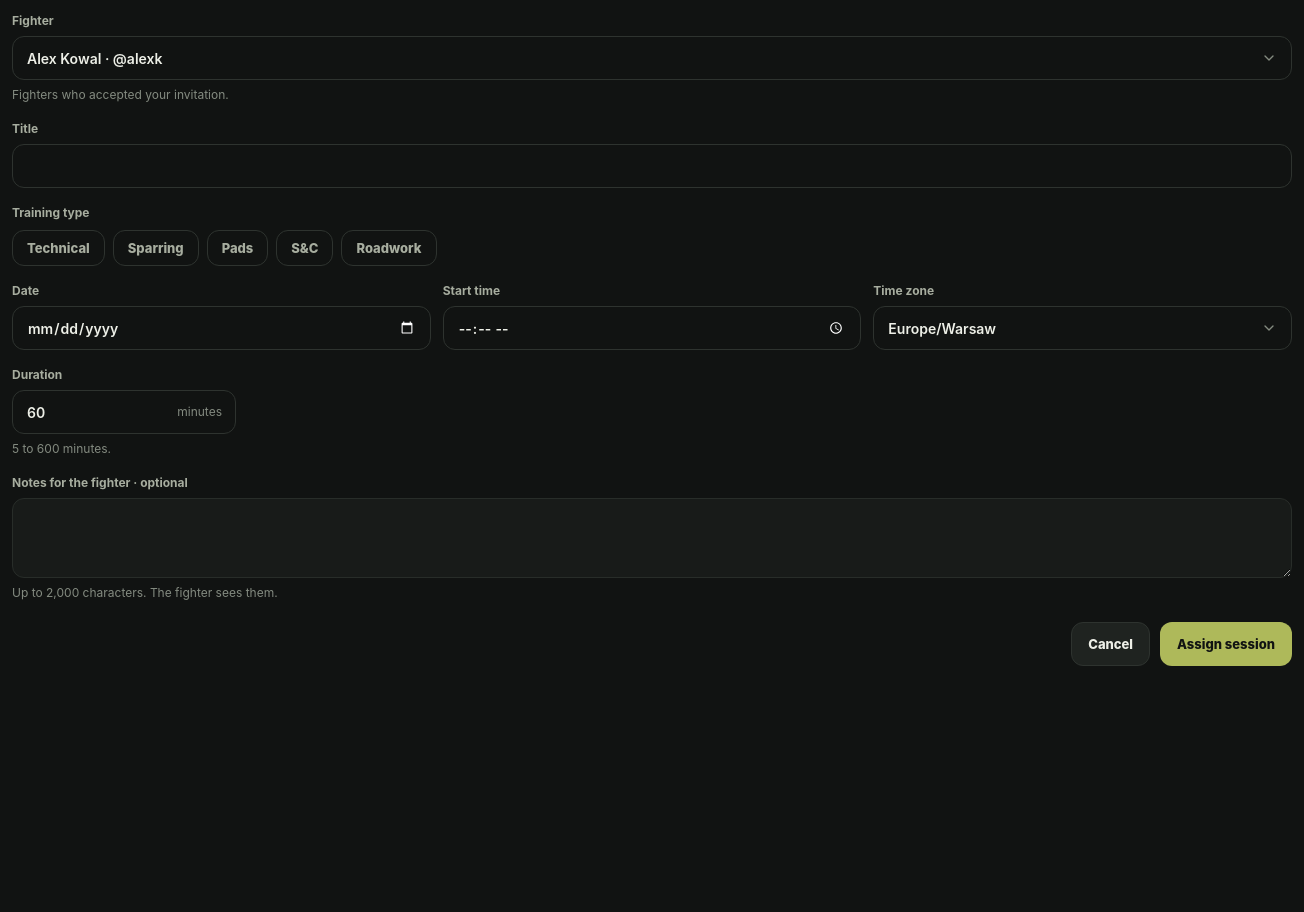
CreateTrainingSessionForm › says the fighter can no longer be planned for when the backend answers 404
In the field labelled "Title": (652,166) [12,144,1292,188], type "  Technical boxing "
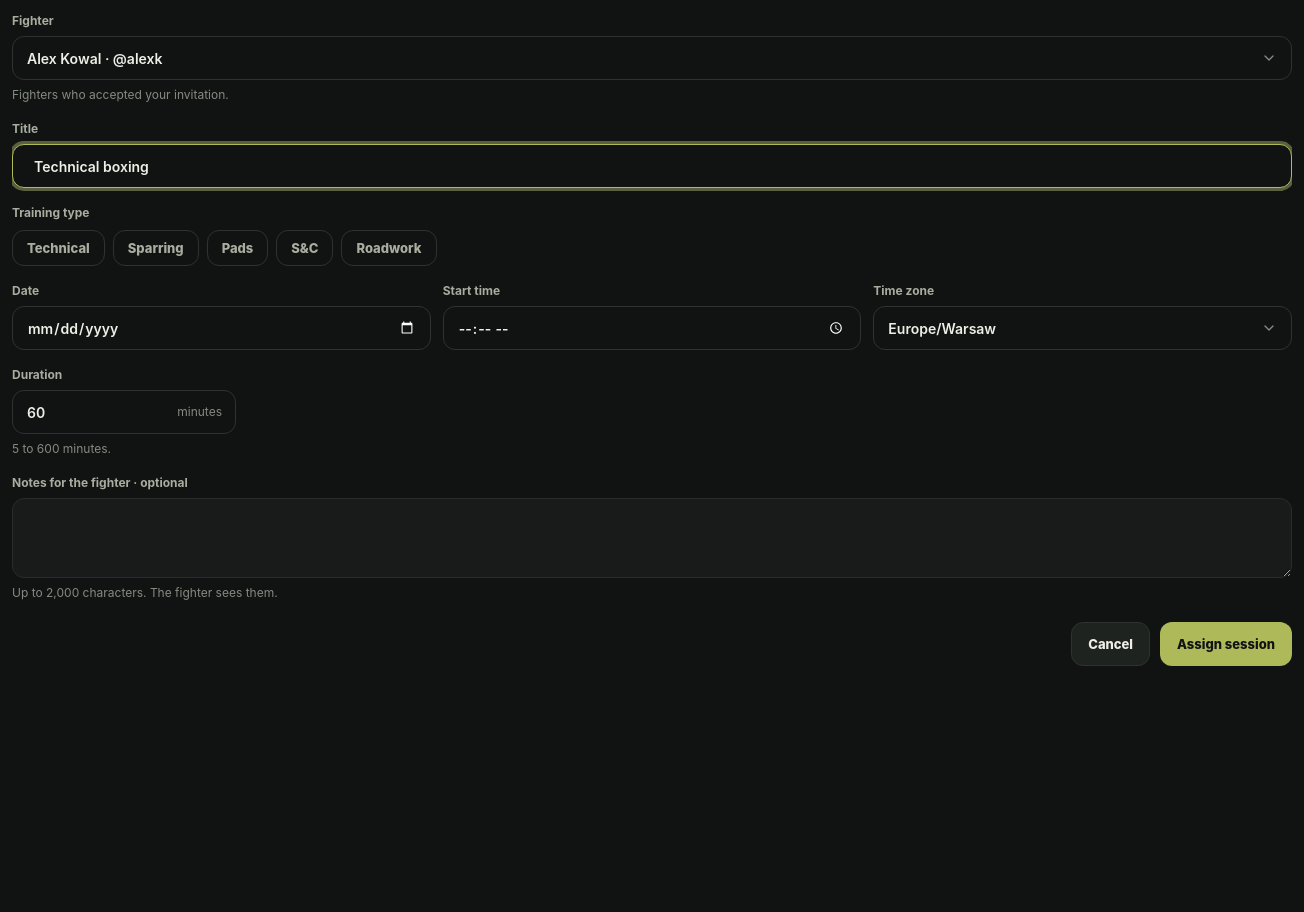
Click the radio button labelled "Technical": (58,248) [12,230,105,266]
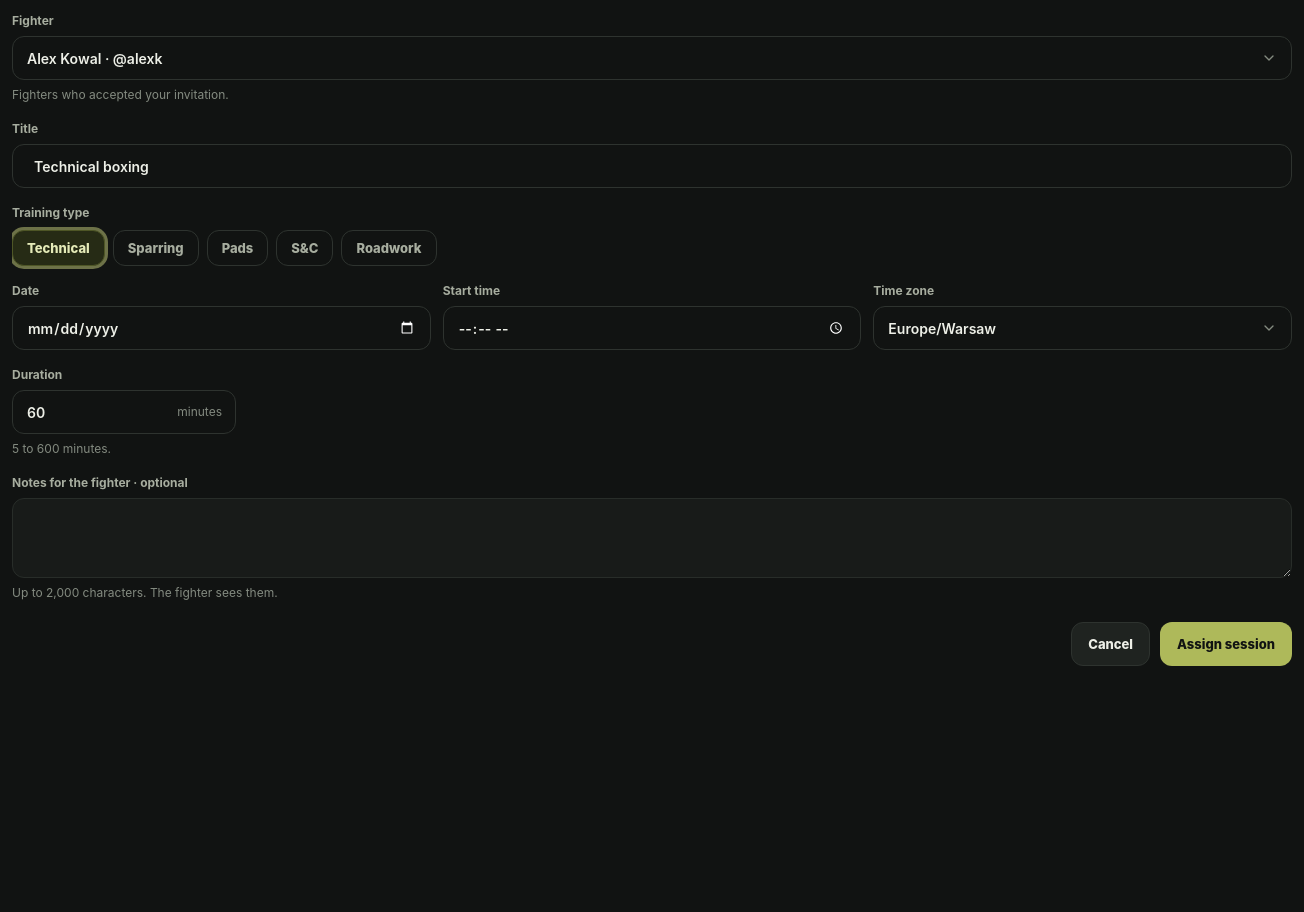
In the date field labelled "Date": (221,328) [12,306,431,350], type "2026-10-21"
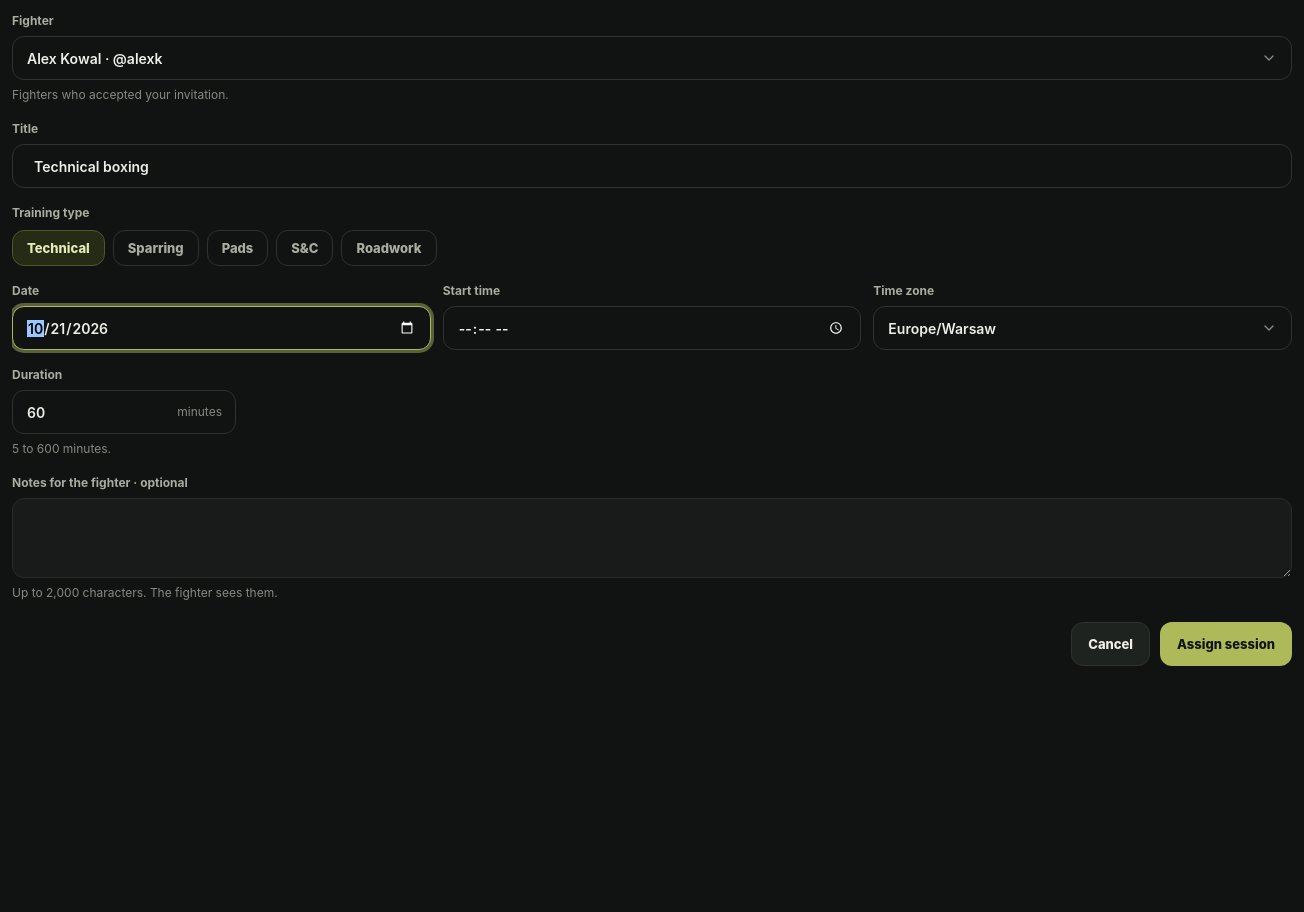
In the time field labelled "Start time": (652,328) [443,306,861,350], type "18:00"
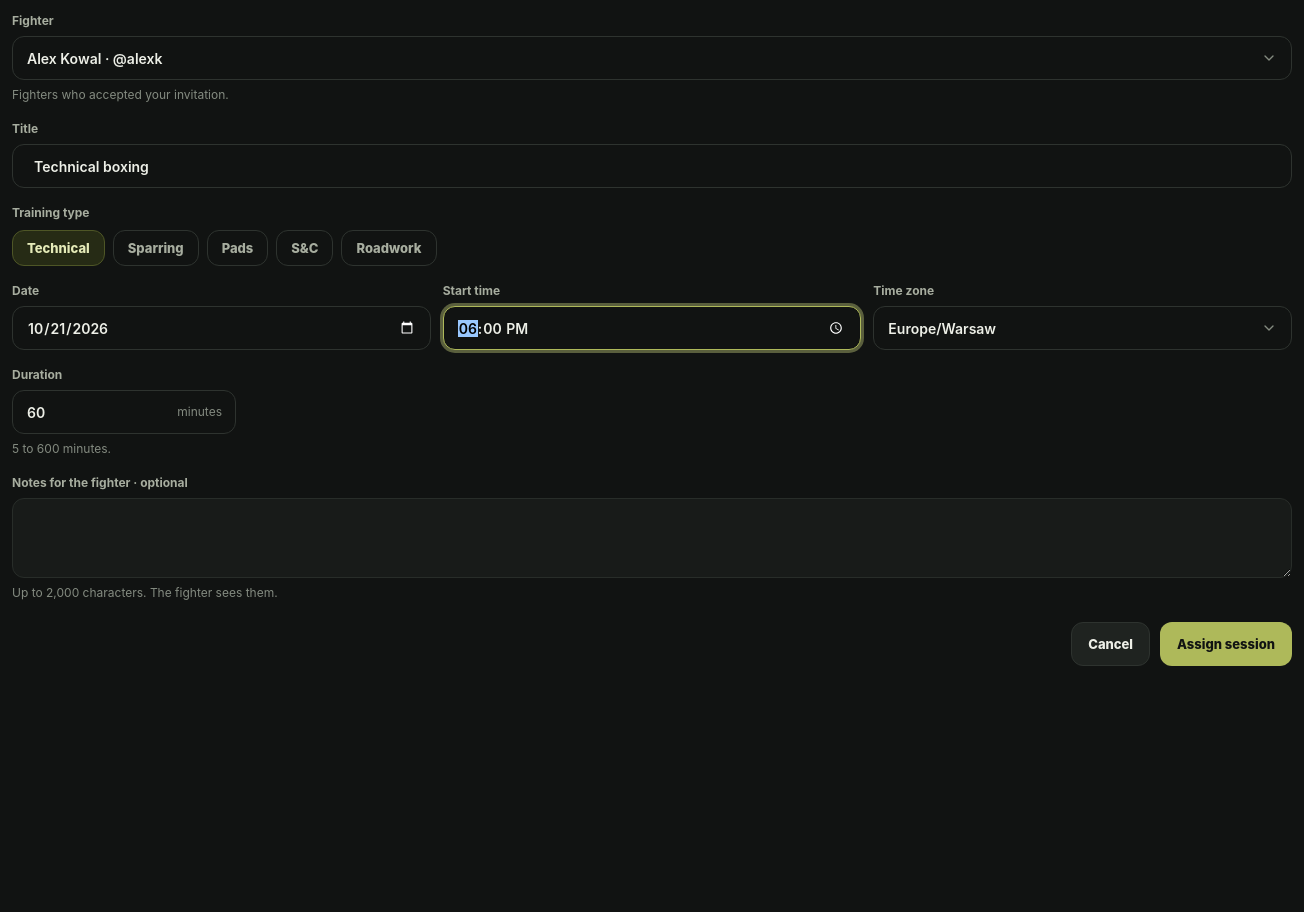
Click the button "Assign session": (1226,644) [1160,622,1292,666]
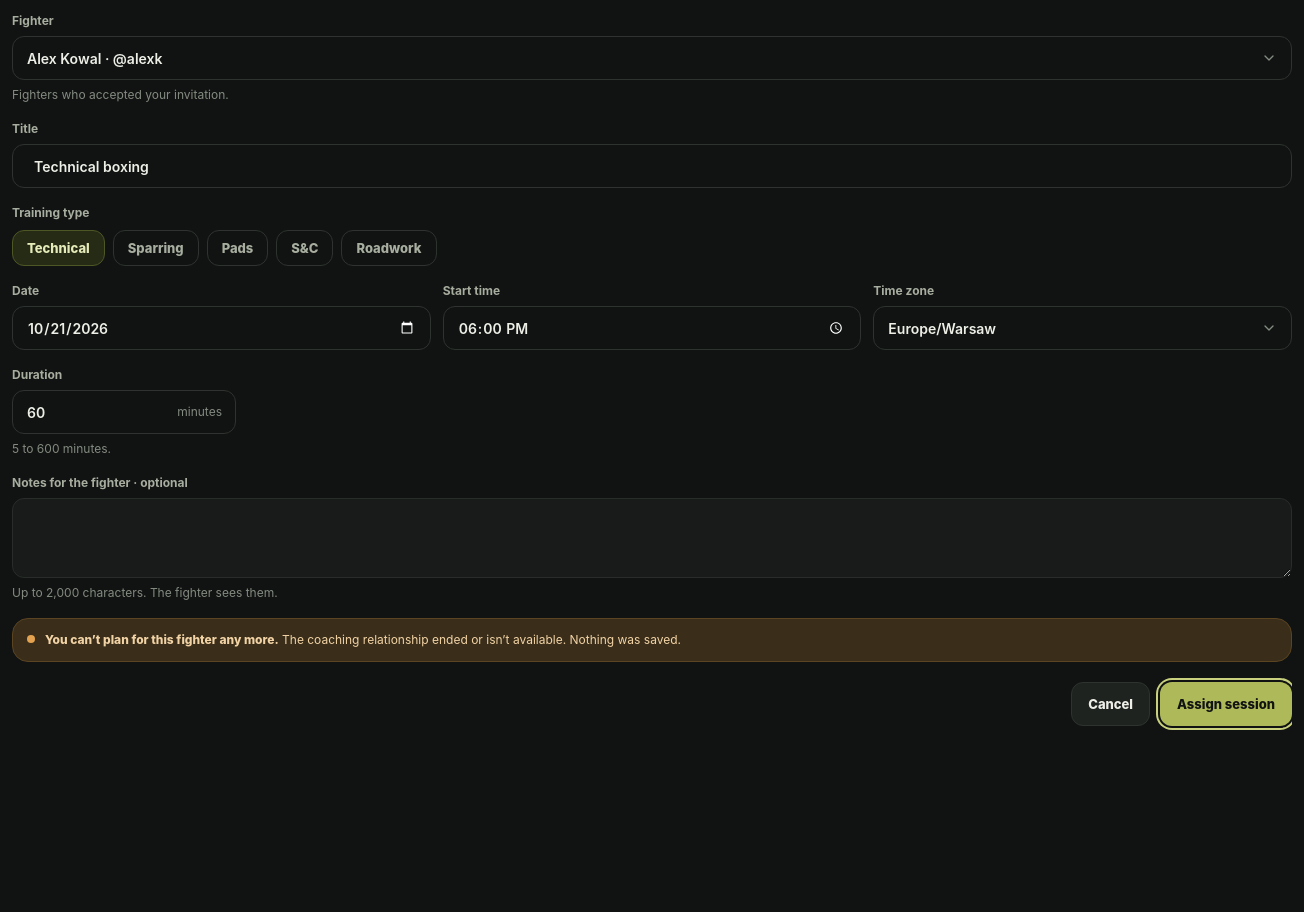
Result: the message shows "You can’t plan for this fighter any more." at [45,632,279,647]
